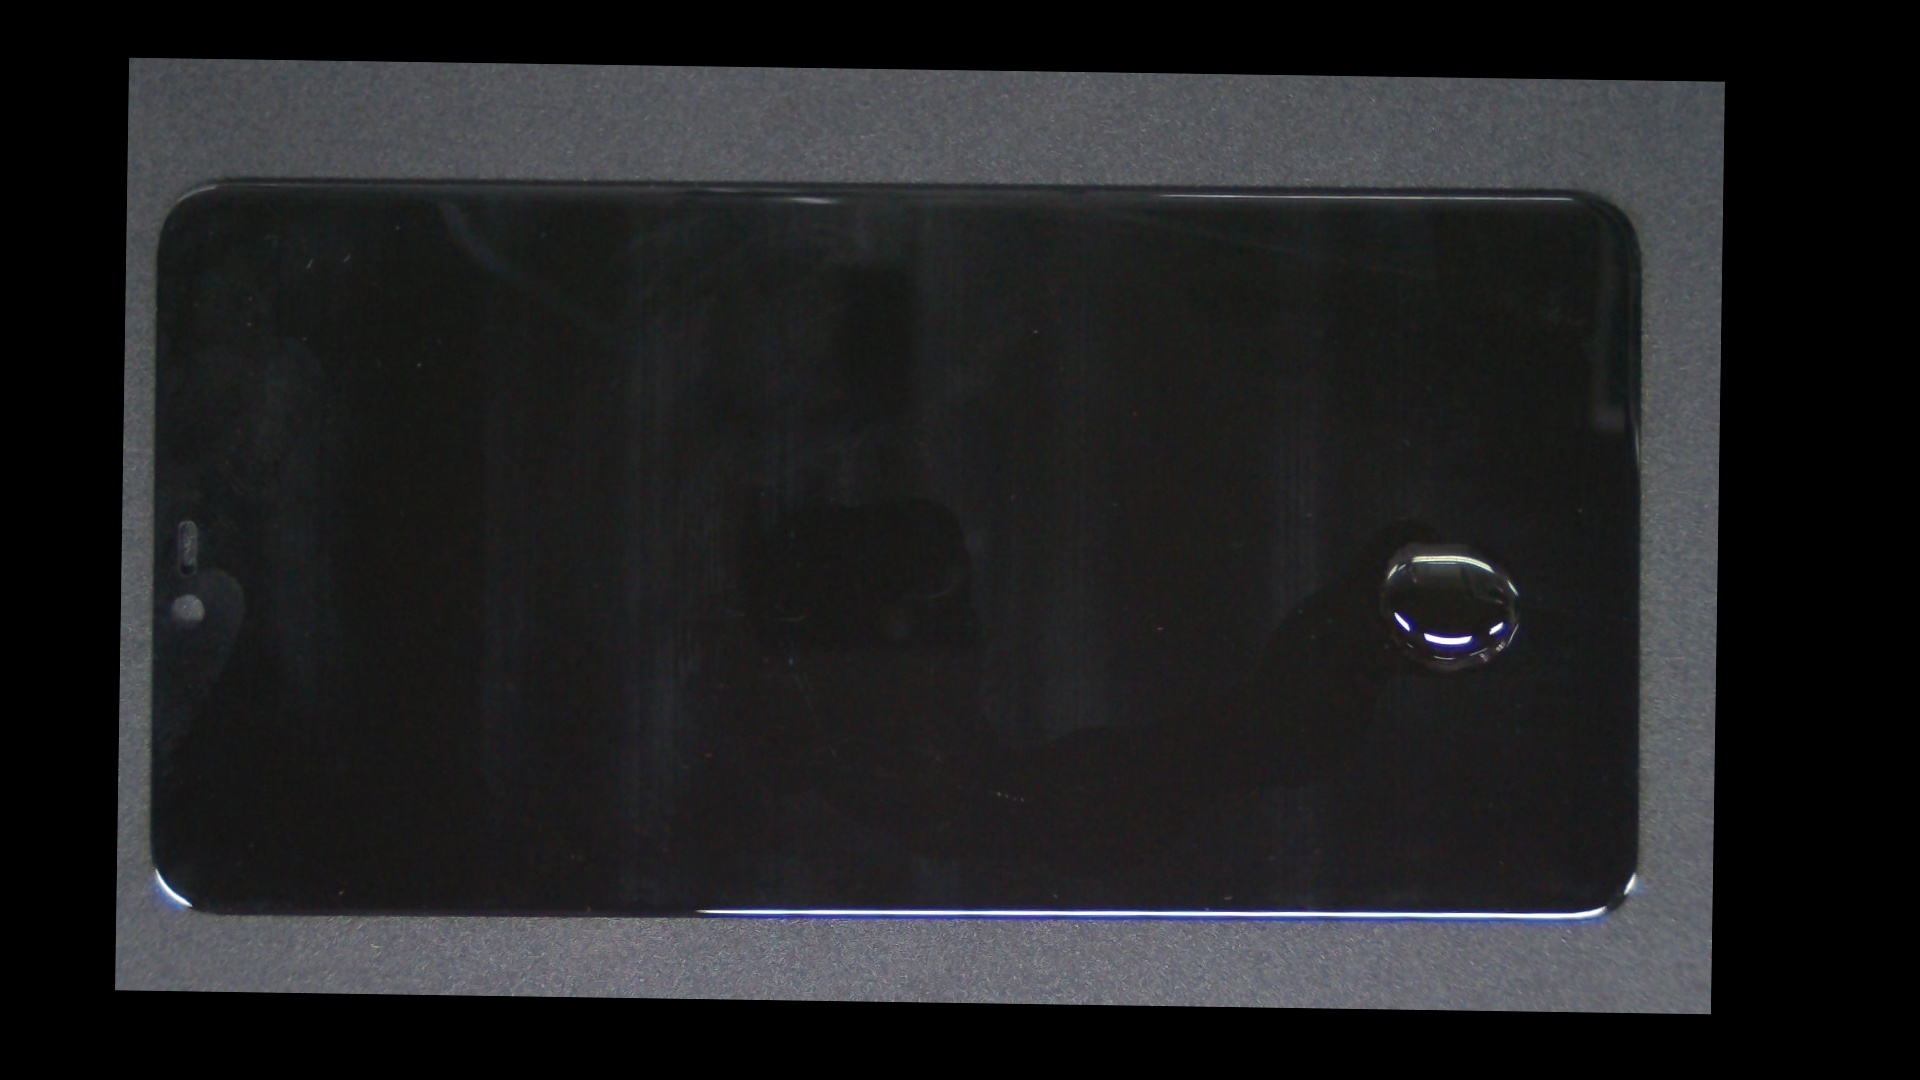oil: (767, 299, 1721, 781)
